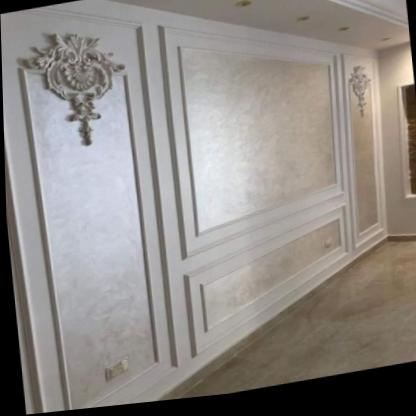Futec frame: (1, 13, 189, 416), (162, 26, 351, 268), (181, 219, 352, 369)
